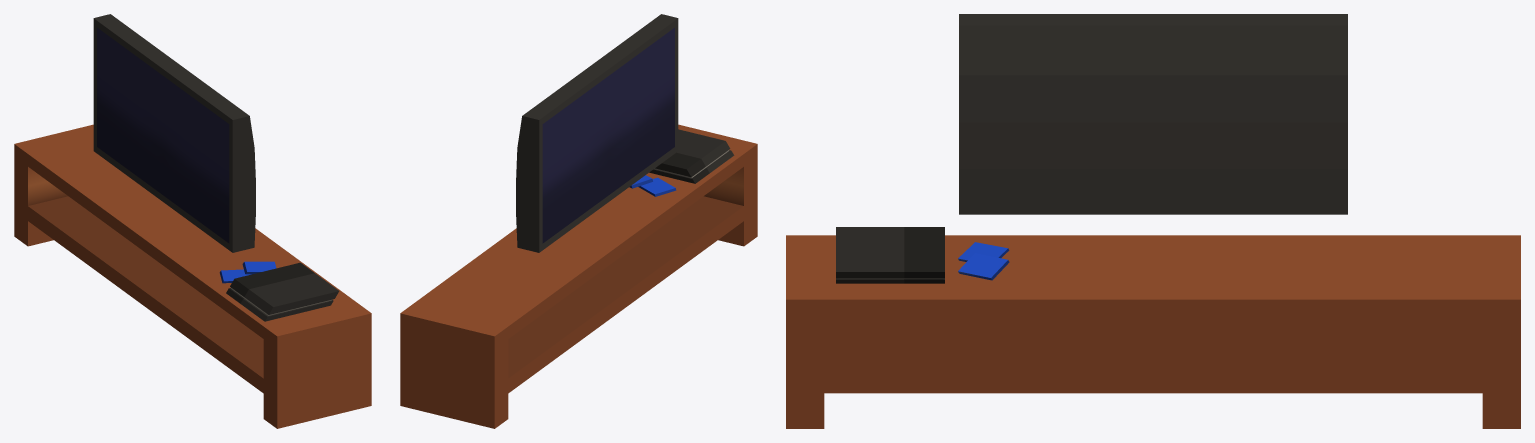
Rendered from LivingRoom_2.fbx.
3 renders of one model, left to right at view 1: azimuth 30°, elevation 25°; view 2: azimuth 150°, elevation 25°; view 3: azimuth 270°, elevation 25°, orthographic. The views are drawn at different scales.
Parts seen in each view (by area): view 1: Plane.003; view 2: Plane.003; view 3: Plane.003.
Boxes of the visible parts, left/top/right/bottom form: Plane.003: left=14, top=14, right=371, bottom=428; Plane.003: left=400, top=14, right=757, bottom=428; Plane.003: left=786, top=14, right=1520, bottom=428.
Size of the model in its own units: 149 by 390 by 717.
